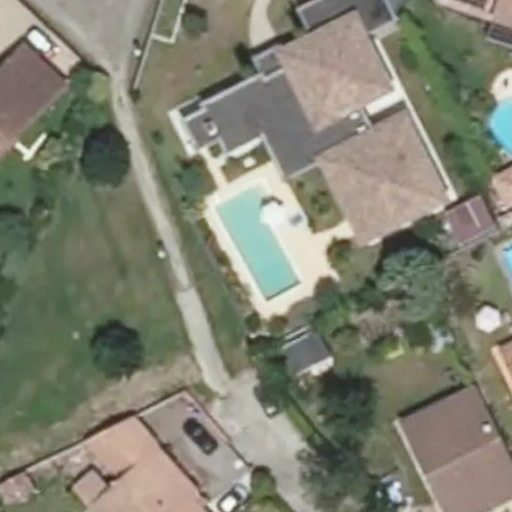pool: (209, 205, 312, 278)
